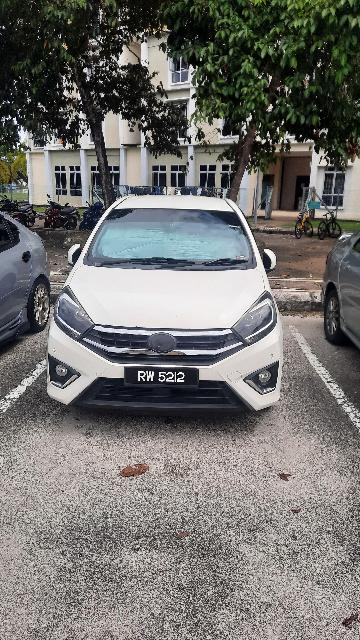License_Plate: (121, 363, 202, 388)
car: (35, 187, 295, 423)
